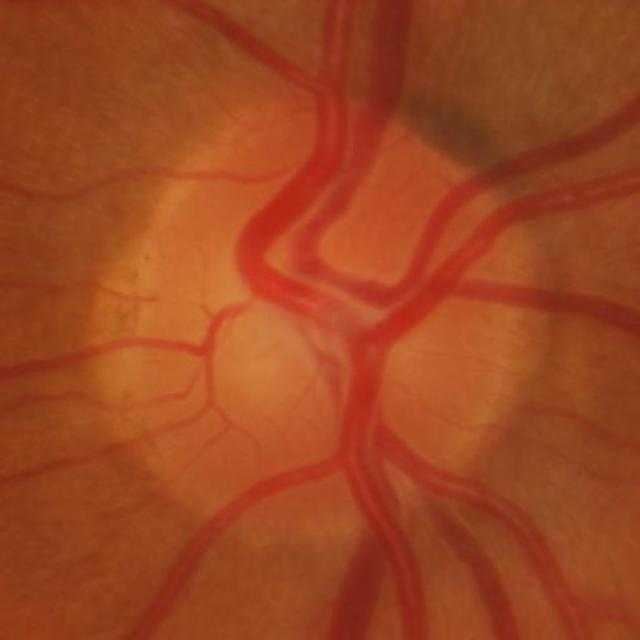OC: (232, 295, 340, 408)
OD: (110, 109, 538, 555)
